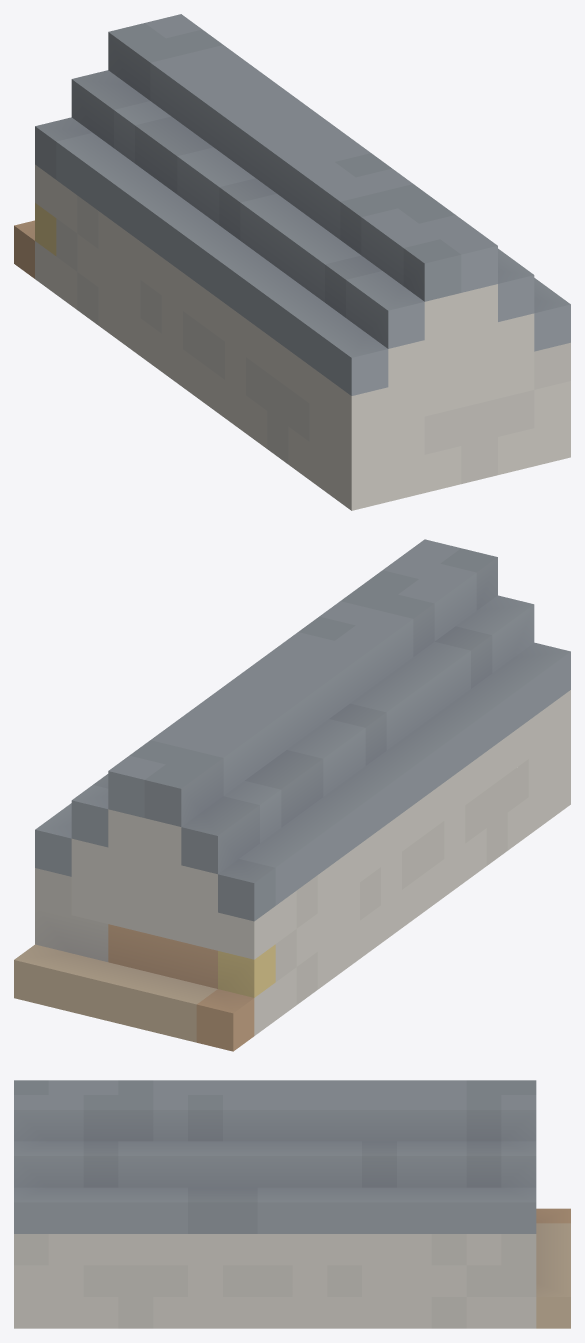
Rendered from copper_mine.lite.glb.
The picture shows the model from 3 angles, top to bottom: view 1: azimuth 30°, elevation 25°; view 2: azimuth 150°, elevation 25°; view 3: azimuth 270°, elevation 25°; orthographic projection. The views are drawn at different scales.
Parts seen in each view (by area): view 1: copper_mine; view 2: copper_mine; view 3: copper_mine.
Part boxes in pixels (x1,y1,x2,y2): copper_mine: (14, 14, 570, 510); copper_mine: (14, 539, 570, 1051); copper_mine: (14, 1080, 570, 1328).
Size of the model in its own units: 3 by 3 by 8.
